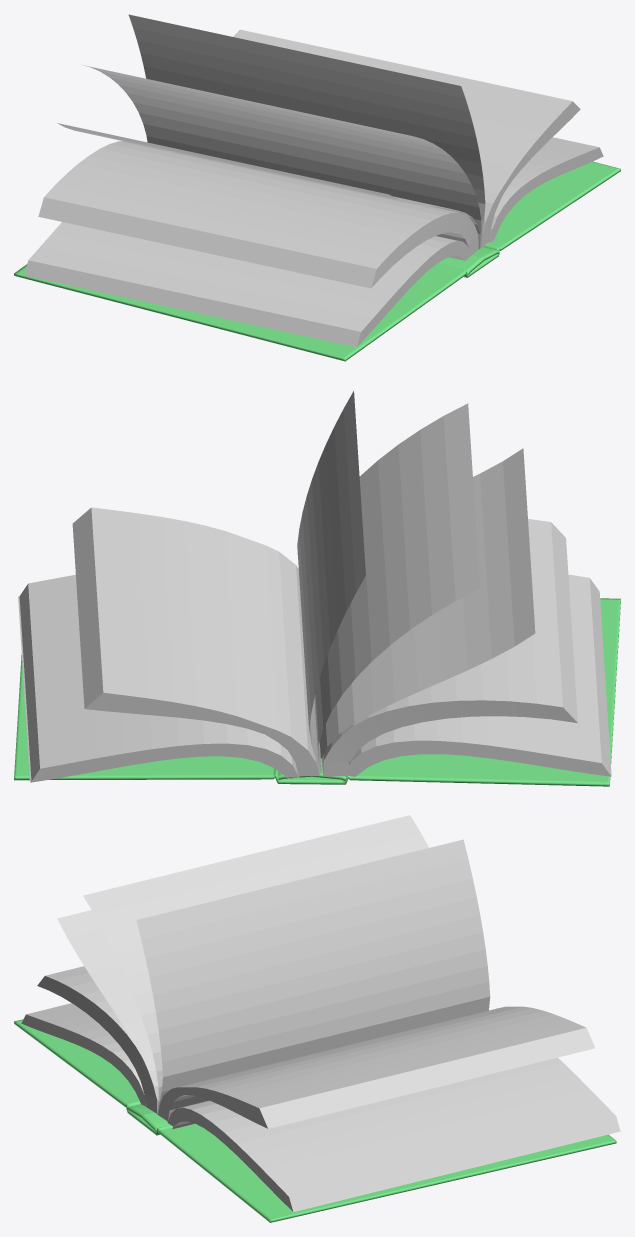
File: book3.glb
3 views of the same model, one above another, from view 1: azimuth 30°, elevation 25°; view 2: azimuth 150°, elevation 25°; view 3: azimuth 270°, elevation 25° (orthographic). The views are drawn at different scales.
Parts seen in each view (by area): view 1: Cube.002; view 2: Cube.002; view 3: Cube.002.
Boxes of the visible parts, x1,y1,x2,y2 form: Cube.002: [14, 14, 620, 361]; Cube.002: [14, 391, 620, 786]; Cube.002: [14, 815, 620, 1222].
Size of the model in its own units: 1.09 by 0.3507 by 1.01.
